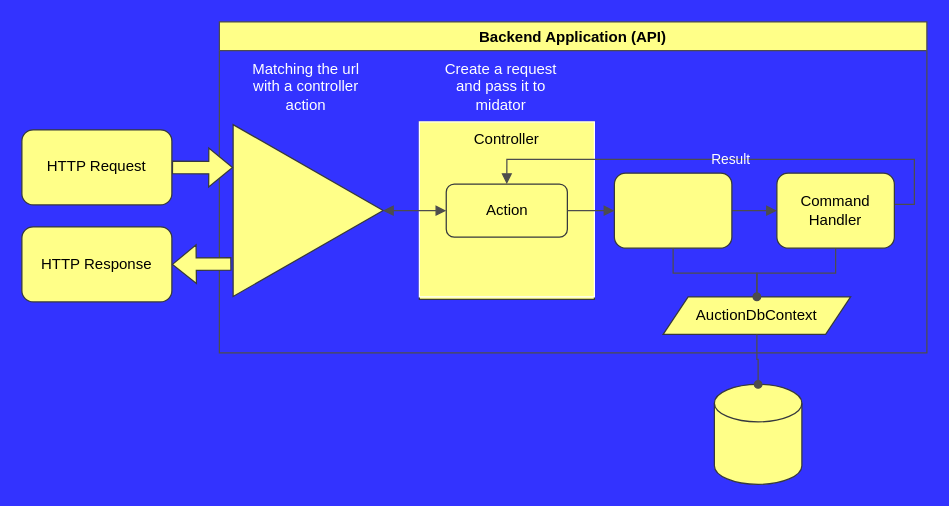
Some shapes in this 949 by 506 pixel diagram are drawn without their labels. Each missing label, with the box of its shape:
Application Request Pipeline: (232, 123, 383, 296)
Command Validator: (613, 172, 732, 248)
Database: (713, 383, 802, 484)
